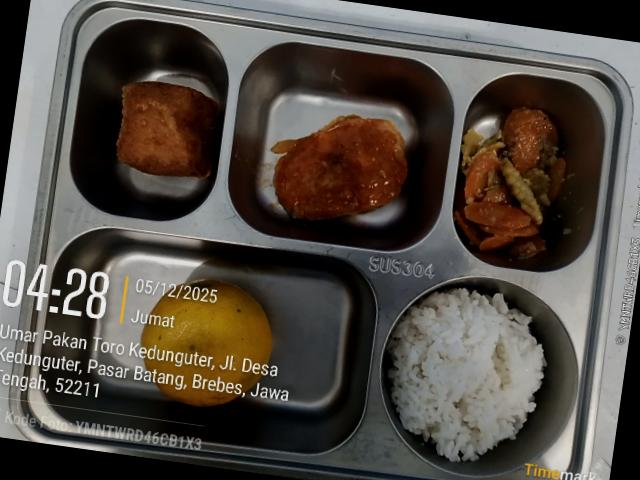ayam: (272, 115, 407, 221)
buah: (133, 280, 276, 407)
nasi: (386, 288, 546, 461)
sayur: (454, 107, 567, 259)
tahu: (117, 82, 218, 178)
